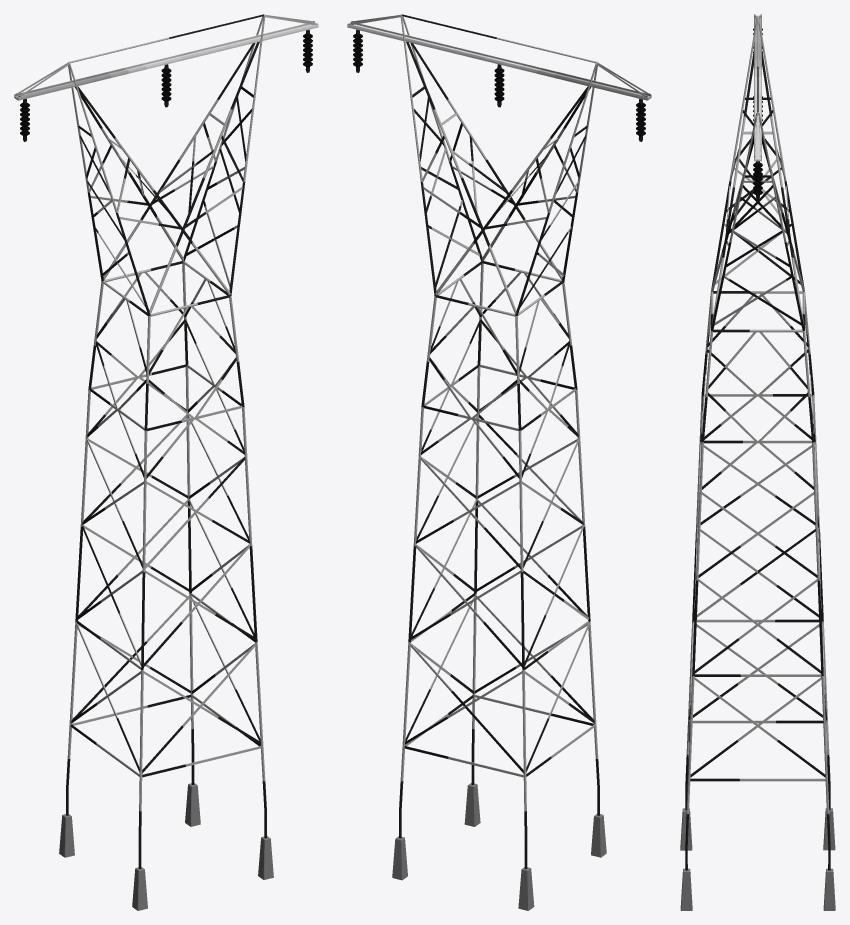
File: PowerlineTower.obj
3 renders of one model, left to right at view 1: azimuth 30°, elevation 25°; view 2: azimuth 150°, elevation 25°; view 3: azimuth 270°, elevation 25°, orthographic.
Visible parts, largest first — view 1: IND_PowerlineTower_01_SM; view 2: IND_PowerlineTower_01_SM; view 3: IND_PowerlineTower_01_SM.
Boxes of the visible parts, x1=… form: IND_PowerlineTower_01_SM: x1=14, y1=14, x2=318, y2=910; IND_PowerlineTower_01_SM: x1=347, y1=14, x2=651, y2=910; IND_PowerlineTower_01_SM: x1=680, y1=14, x2=835, y2=910.
Bounding box in the file's own units: 258 × 679 × 117.
